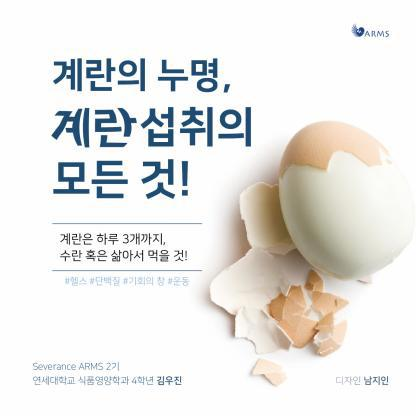egg: (266, 119, 416, 286)
